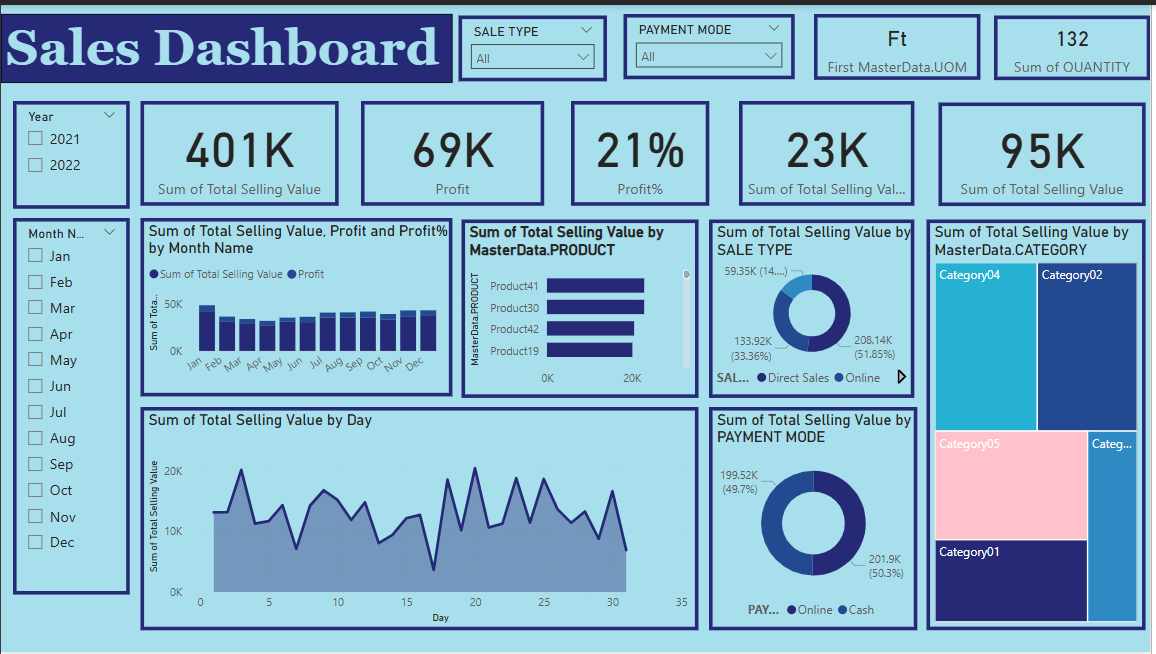

The dashboard page shown, as its layout file describes it:
{"tool":"powerbi","page":{"name":"Page 1","canvas":[1280,720],"ordinal":0},"visuals":[{"type":"slicer","fields":{"Values":["InputData.Year"]},"box":[13.4,106.9,130.3,120.3],"z":0},{"type":"slicer","fields":{"Values":["InputData.Month Name"]},"box":[13.4,237.2,130.3,419.2],"z":1000},{"type":"slicer","fields":{"Values":["InputData.PAYMENT MODE"]},"box":[693.1,10.7,190.4,72.7],"z":2000},{"type":"slicer","fields":{"Values":["InputData.SALE TYPE"]},"box":[509.4,11.7,165.4,73.5],"z":3000},{"type":"card","fields":{"Values":["Sum(InputData.Total Selling Value)"]},"box":[155.3,106.9,220.5,116.9],"z":4000},{"type":"card","fields":{"Values":["Sum(InputData.QUANTITY)"]},"box":[1105.7,11.7,173.7,71.8],"z":5000},{"type":"card","fields":{"Values":["InputData.Profit%"]},"box":[634.7,106.9,153.7,116.9],"z":6000},{"type":"card","fields":{"Values":["InputData.Profit"]},"box":[400.9,106.9,203.8,116.9],"z":7000},{"type":"card","fields":{"Values":["Min(InputData.MasterData.UOM)"]},"box":[905.3,10,185.4,73.5],"z":8000},{"type":"card","fields":{"Values":["Sum(InputData.Total Selling Value)"]},"box":[1043.9,108.6,230.5,115.3],"z":9000},{"type":"card","fields":{"Values":["Sum(InputData.Total Selling Value)"]},"box":[821.8,106.9,195.4,116.9],"z":10000},{"type":"columnChart","fields":{"Category":["InputData.Month Name"],"Y":["Sum(InputData.Total Selling Value)","InputData.Profit"]},"box":[155.3,237.2,347.4,198.8],"z":11000},{"type":"clusteredBarChart","fields":{"Y":["Sum(InputData.Total Selling Value)"],"Category":["InputData.MasterData.PRODUCT"]},"box":[512.8,238.9,263.9,198.8],"z":12000},{"type":"areaChart","fields":{"Y":["Sum(InputData.Total Selling Value)"],"Category":["InputData.Day"]},"box":[155.3,447.6,621.4,248.9],"z":13000},{"type":"donutChart","fields":{"Y":["Sum(InputData.Total Selling Value)"],"Category":["InputData.SALE TYPE"]},"box":[788.4,238.9,228.8,198.8],"z":14000},{"type":"donutChart","fields":{"Y":["Sum(InputData.Total Selling Value)"],"Category":["InputData.PAYMENT MODE"]},"box":[788.4,447.6,232.2,248.9],"z":15000},{"type":"treemap","fields":{"Values":["Sum(InputData.Total Selling Value)"],"Details":["InputData.MasterData.CATEGORY"]},"box":[1030.6,238.9,243.9,457.7],"z":16000},{"type":"textbox","box":[0,10,502.8,76.8],"z":17000}]}

Visuals, with their boxes in screenshot pixels (x1, y1, x2, y2), scaled from the page's 1280x720 canvas onto the 1156x654 screenshot:
slicer - InputData.Year: 12/97/130/206
slicer - InputData.Month Name: 12/215/130/596
slicer - InputData.PAYMENT MODE: 626/10/798/76
slicer - InputData.SALE TYPE: 460/11/609/77
card - Sum(InputData.Total Selling Value): 140/97/339/203
card - Sum(InputData.QUANTITY): 999/11/1155/76
card - InputData.Profit%: 573/97/712/203
card - InputData.Profit: 362/97/546/203
card - Min(InputData.MasterData.UOM): 818/9/985/76
card - Sum(InputData.Total Selling Value): 943/99/1151/203
card - Sum(InputData.Total Selling Value): 742/97/919/203
columnChart - InputData.Month Name x Sum(InputData.Total Selling Value): 140/215/454/396
clusteredBarChart - Sum(InputData.Total Selling Value) x InputData.MasterData.PRODUCT: 463/217/701/398
areaChart - Sum(InputData.Total Selling Value) x InputData.Day: 140/407/701/633
donutChart - Sum(InputData.Total Selling Value) x InputData.SALE TYPE: 712/217/919/398
donutChart - Sum(InputData.Total Selling Value) x InputData.PAYMENT MODE: 712/407/922/633
treemap - Sum(InputData.Total Selling Value) x InputData.MasterData.CATEGORY: 931/217/1151/633
textbox: 0/9/454/79
